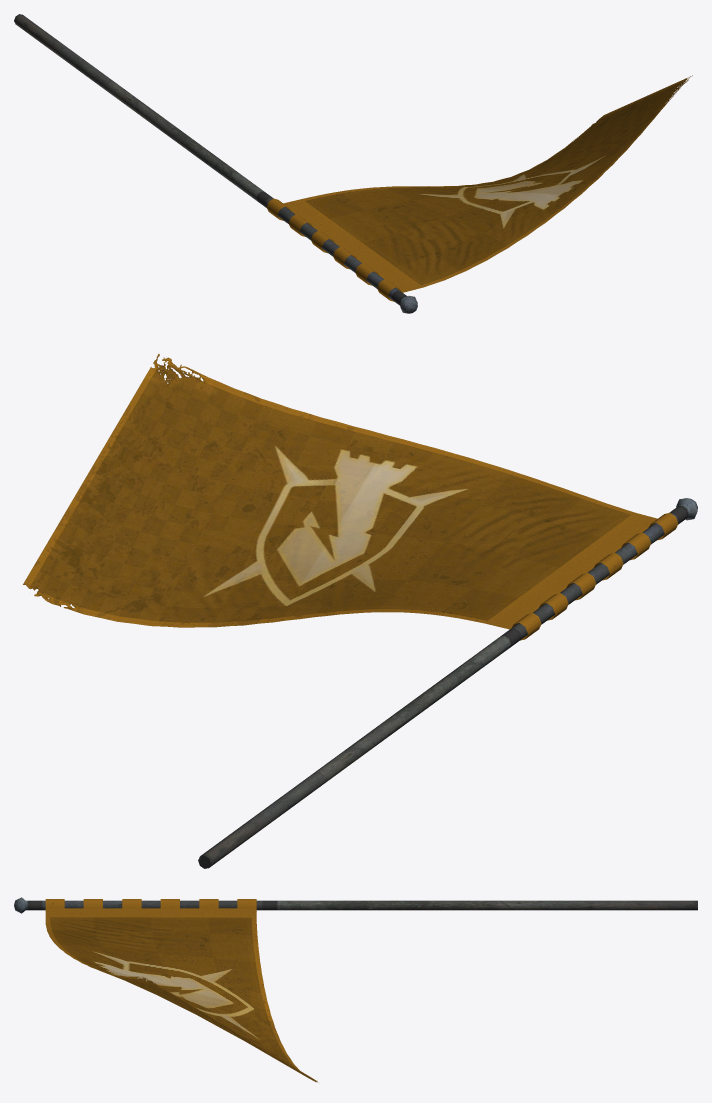
Rendered from mp_flag_axis_2_LOD0.obj.
3 views of the same model, one above another, from view 1: azimuth 30°, elevation 25°; view 2: azimuth 150°, elevation 25°; view 3: azimuth 270°, elevation 25° (orthographic). The views are drawn at different scales.
Visible parts, largest first — view 1: mtl_flag_axis_2, mtl_mp_flag_base; view 2: mtl_flag_axis_2, mtl_mp_flag_base; view 3: mtl_flag_axis_2, mtl_mp_flag_base.
Part boxes in pixels (x1,y1,x2,y2): mtl_flag_axis_2: (266, 75, 692, 301); mtl_mp_flag_base: (14, 14, 417, 313); mtl_flag_axis_2: (23, 354, 678, 640); mtl_mp_flag_base: (198, 498, 697, 868); mtl_flag_axis_2: (45, 899, 317, 1082); mtl_mp_flag_base: (14, 897, 697, 913).
Size of the model in its own units: 116 by 44.12 by 212.
